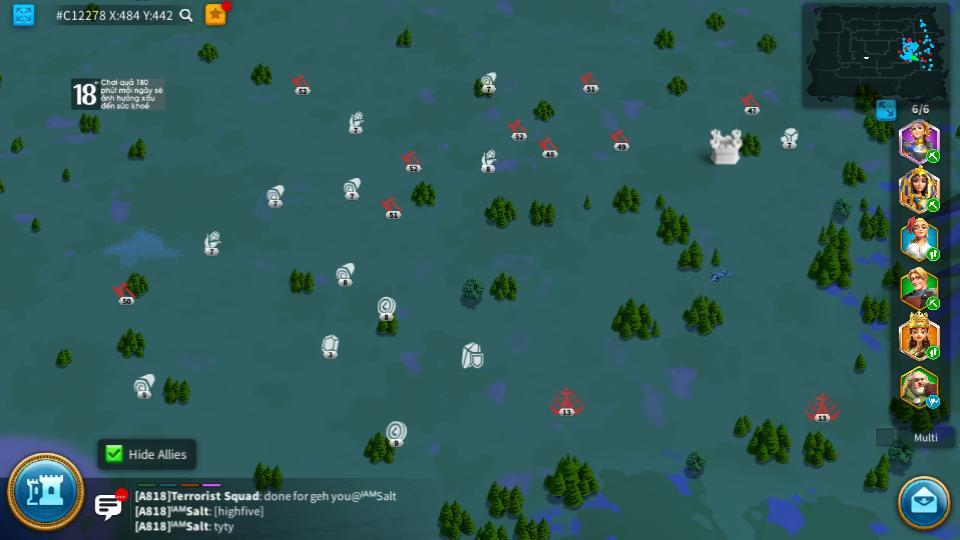gem-z-out: (319, 335, 341, 358)
march_farming: (923, 197, 940, 212), (925, 297, 942, 310)
march_idle: (925, 396, 943, 408)
march_marching: (925, 347, 942, 359), (925, 150, 942, 162)
